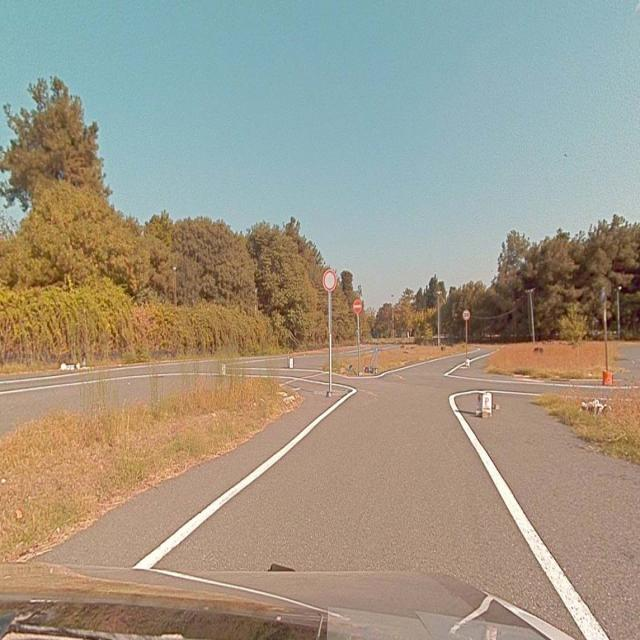girisyok: (353, 299, 362, 313)
